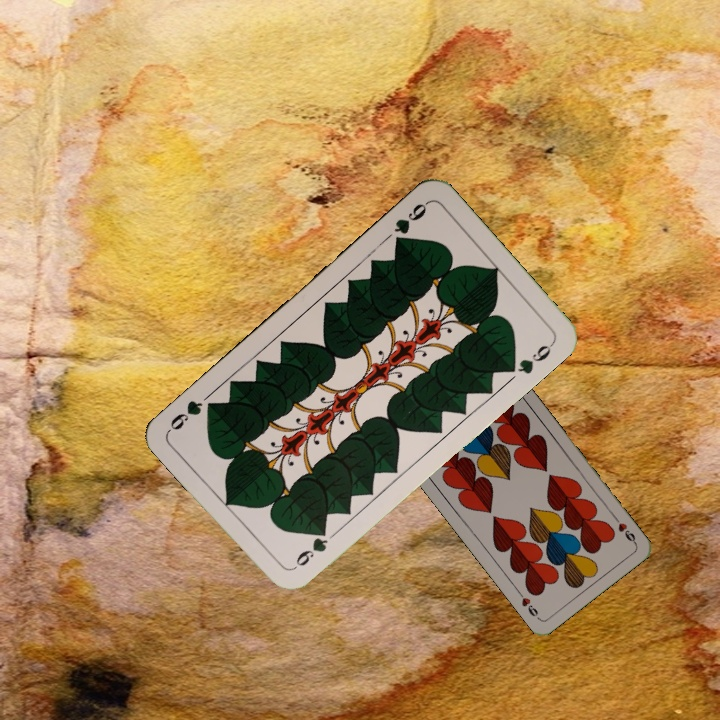G9: (390, 197, 431, 249), (289, 525, 331, 573)
H9: (609, 512, 639, 546)
